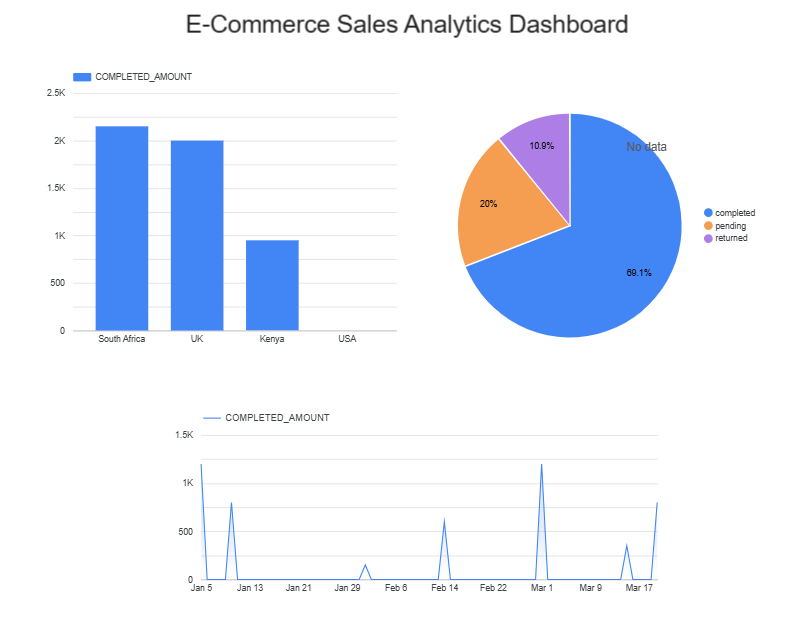

Layout of this report page (visuals, bound fields, positions):
{"tool":"powerbi","page":{"name":"Page 1","canvas":[1280,720],"ordinal":0},"visuals":[{"type":"textbox","box":[259.8,0,907.7,87.2],"z":0},{"type":"clusteredColumnChart","fields":{"Category":["Ecommerce_Snoflake_dbt_Project_2026-04-21-2259.COUNTRY"],"Y":["Sum(Ecommerce_Snoflake_dbt_Project_2026-04-21-2259.COMPLETED_AMOUNT)"]},"box":[0,75,655,356.4],"z":1000},{"type":"pieChart","fields":{"Category":["Ecommerce_Snoflake_dbt_Project_2026-04-21-2259.STATUS"],"Y":["CountNonNull(Ecommerce_Snoflake_dbt_Project_2026-04-21-2259.ORDER_ID)"]},"box":[639.1,60.6,640.6,383.8],"z":1001},{"type":"lineChart","fields":{"Category":["Ecommerce_Snoflake_dbt_Project_2026-04-21-2259.ORDER_DATE.Variation.Date Hierarchy.Month"],"Y":["Sum(Ecommerce_Snoflake_dbt_Project_2026-04-21-2259.COMPLETED_AMOUNT)"]},"box":[269.8,444.4,655,275.6],"z":1002}]}

Visuals, with their boxes on the page's 1280x720 design canvas (x1, y1, x2, y2). These are canvas units, not pixel positions in the 788x618 screenshot, which may show the page scaled, cropped or inside an application window:
textbox: [260, 0, 1168, 87]
clusteredColumnChart - Ecommerce_Snoflake_dbt_Project_2026-04-21-2259.COUNTRY x Sum(Ecommerce_Snoflake_dbt_Project_2026-04-21-2259.COMPLETED_AMOUNT): [0, 75, 655, 431]
pieChart - Ecommerce_Snoflake_dbt_Project_2026-04-21-2259.STATUS x CountNonNull(Ecommerce_Snoflake_dbt_Project_2026-04-21-2259.ORDER_ID): [639, 61, 1280, 444]
lineChart - Ecommerce_Snoflake_dbt_Project_2026-04-21-2259.ORDER_DATE.Variation.Date Hierarchy.Month x Sum(Ecommerce_Snoflake_dbt_Project_2026-04-21-2259.COMPLETED_AMOUNT): [270, 444, 925, 720]
